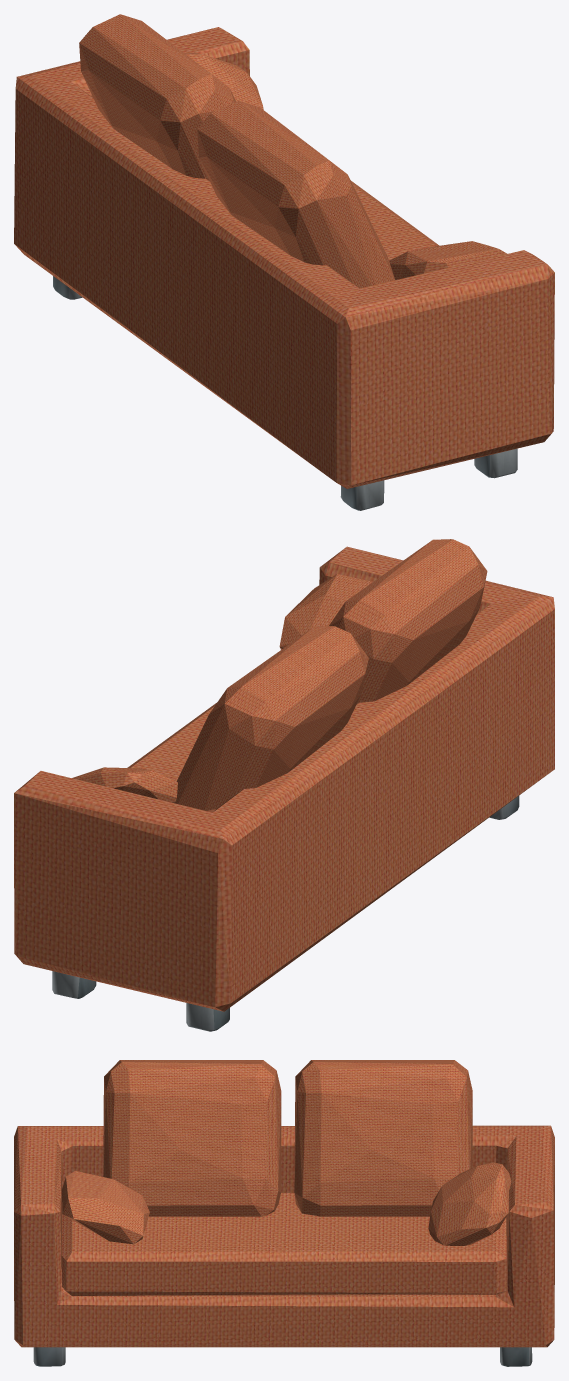
The model's file is SOFA_04.fbx.
The picture shows the model from 3 angles, top to bottom: view 1: azimuth 30°, elevation 25°; view 2: azimuth 150°, elevation 25°; view 3: azimuth 270°, elevation 25°; orthographic projection. The views are drawn at different scales.
Parts seen in each view (by area): view 1: SOFA_04; view 2: SOFA_04; view 3: SOFA_04.
Boxes of the visible parts, x1,y1,x2,y2 form: SOFA_04: [14, 14, 554, 510]; SOFA_04: [14, 539, 554, 1031]; SOFA_04: [14, 1060, 554, 1366].
Size of the model in its own units: 99.97 by 135 by 266.
